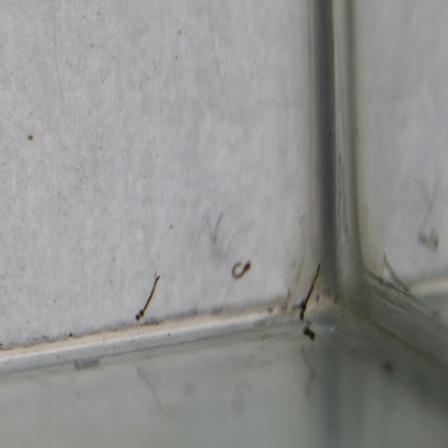Jentik-Nyamuk: (132, 270, 162, 321)
